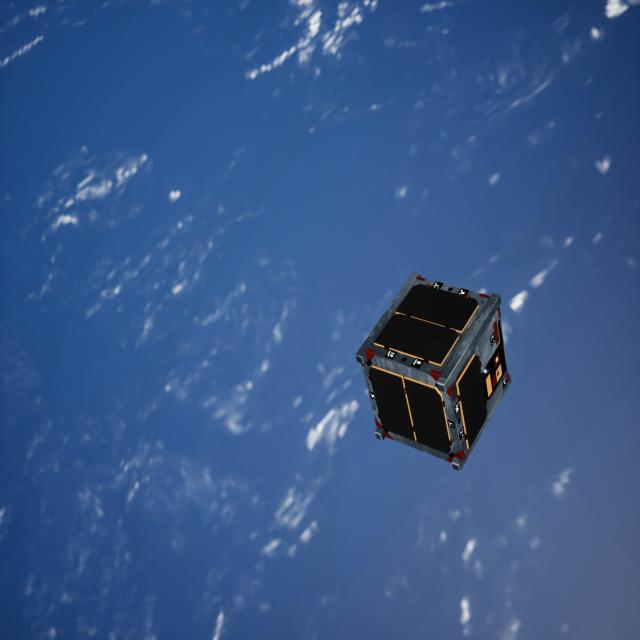medium_debris: (356, 269, 516, 473)
